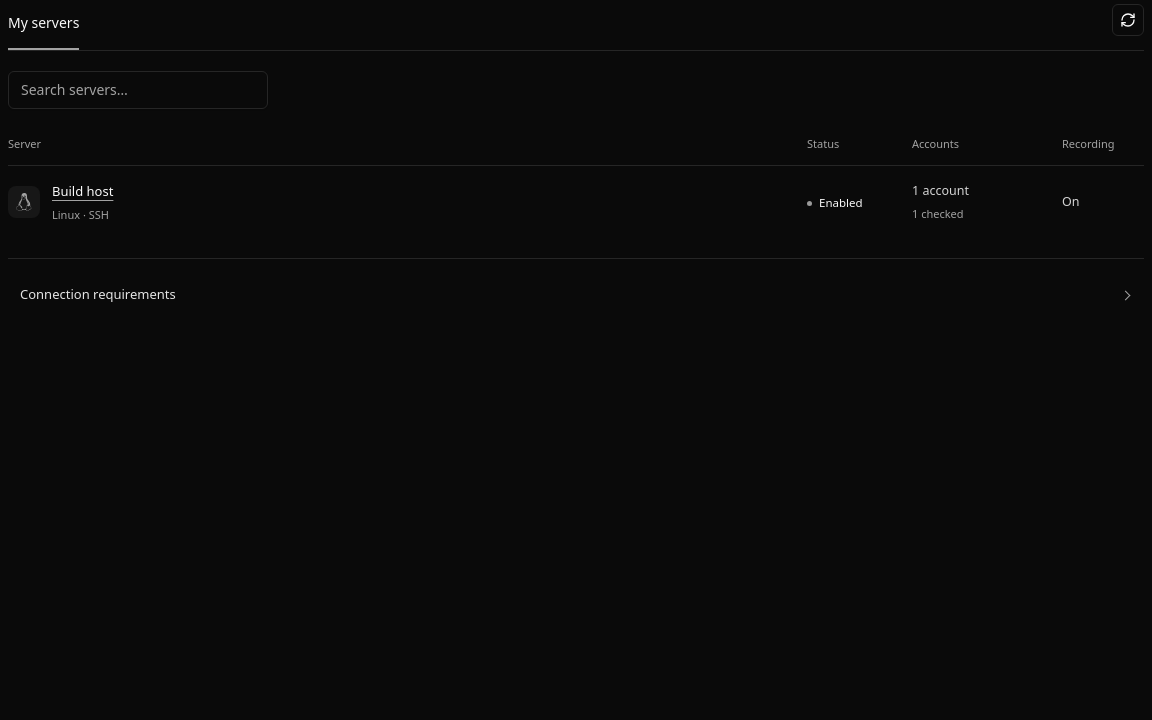
it: recording-enabled servers allow admission when capture is implemented
The width and height of the screenshot is (1152, 720).
Click the button "Build host" at point(83, 191), box [52,181,113,201]
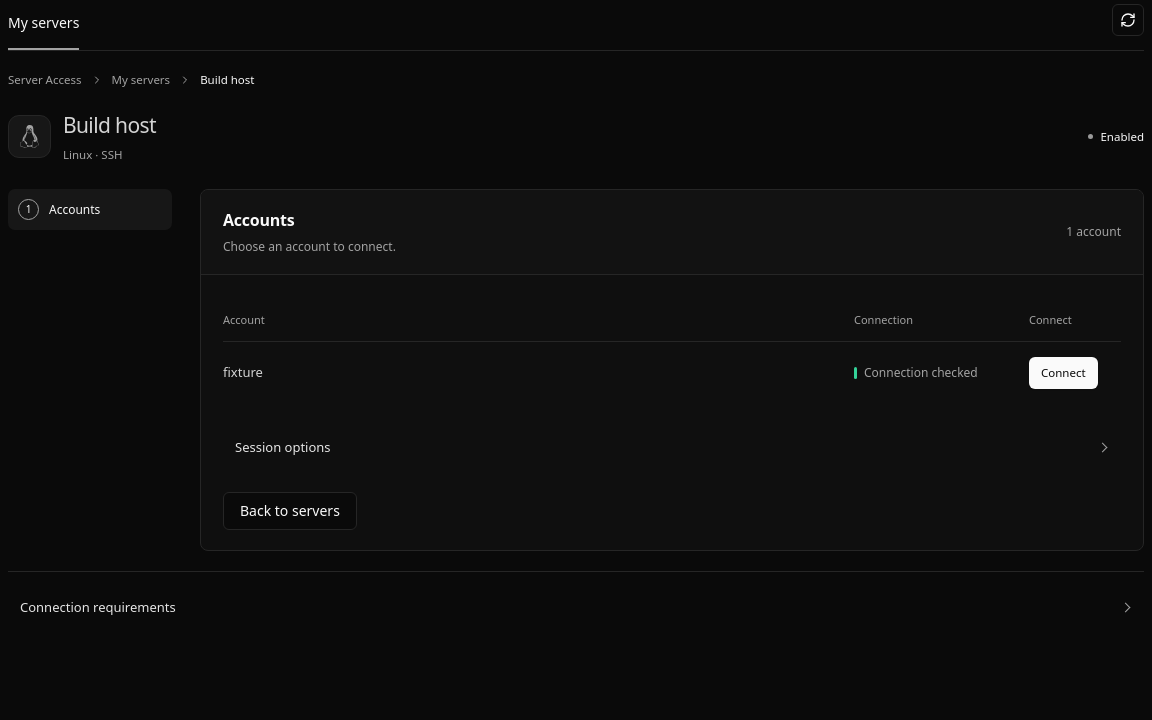
Check: the button with aria-label "Connect as fixture" is enabled, box [1029,357,1098,389]
Click the heading "Session options" at point(283, 447), box [235,438,331,456]
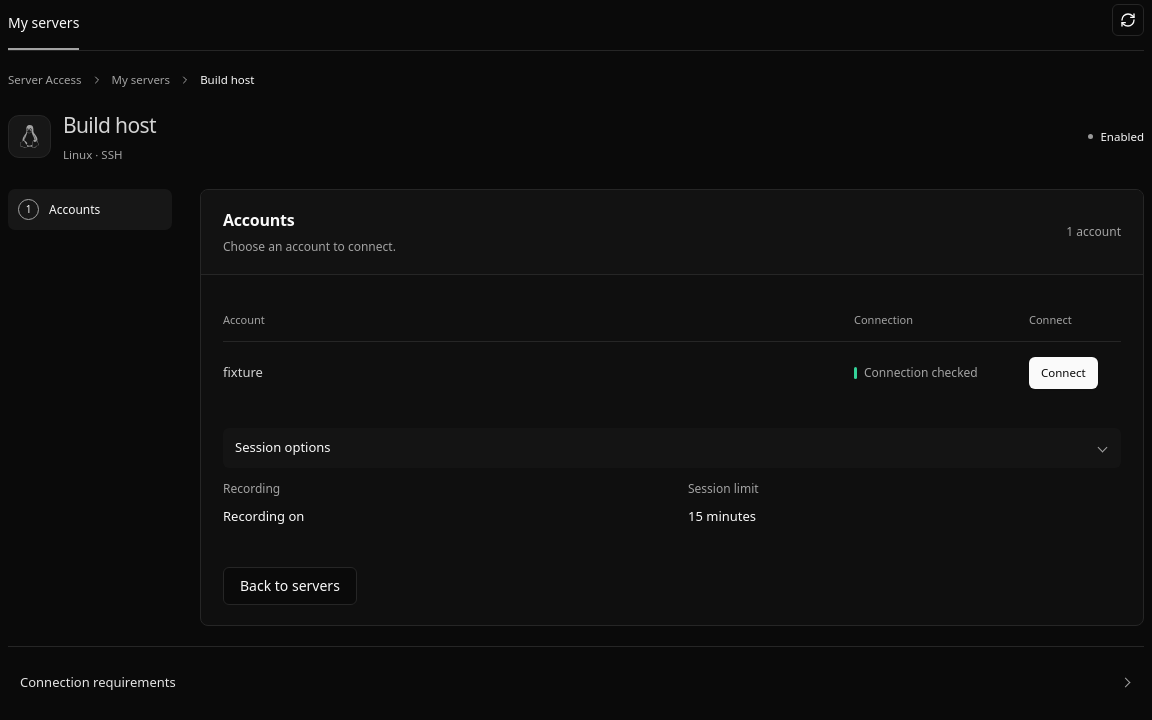
Check: the text "Recording on" is shown, box [223,507,304,525]
